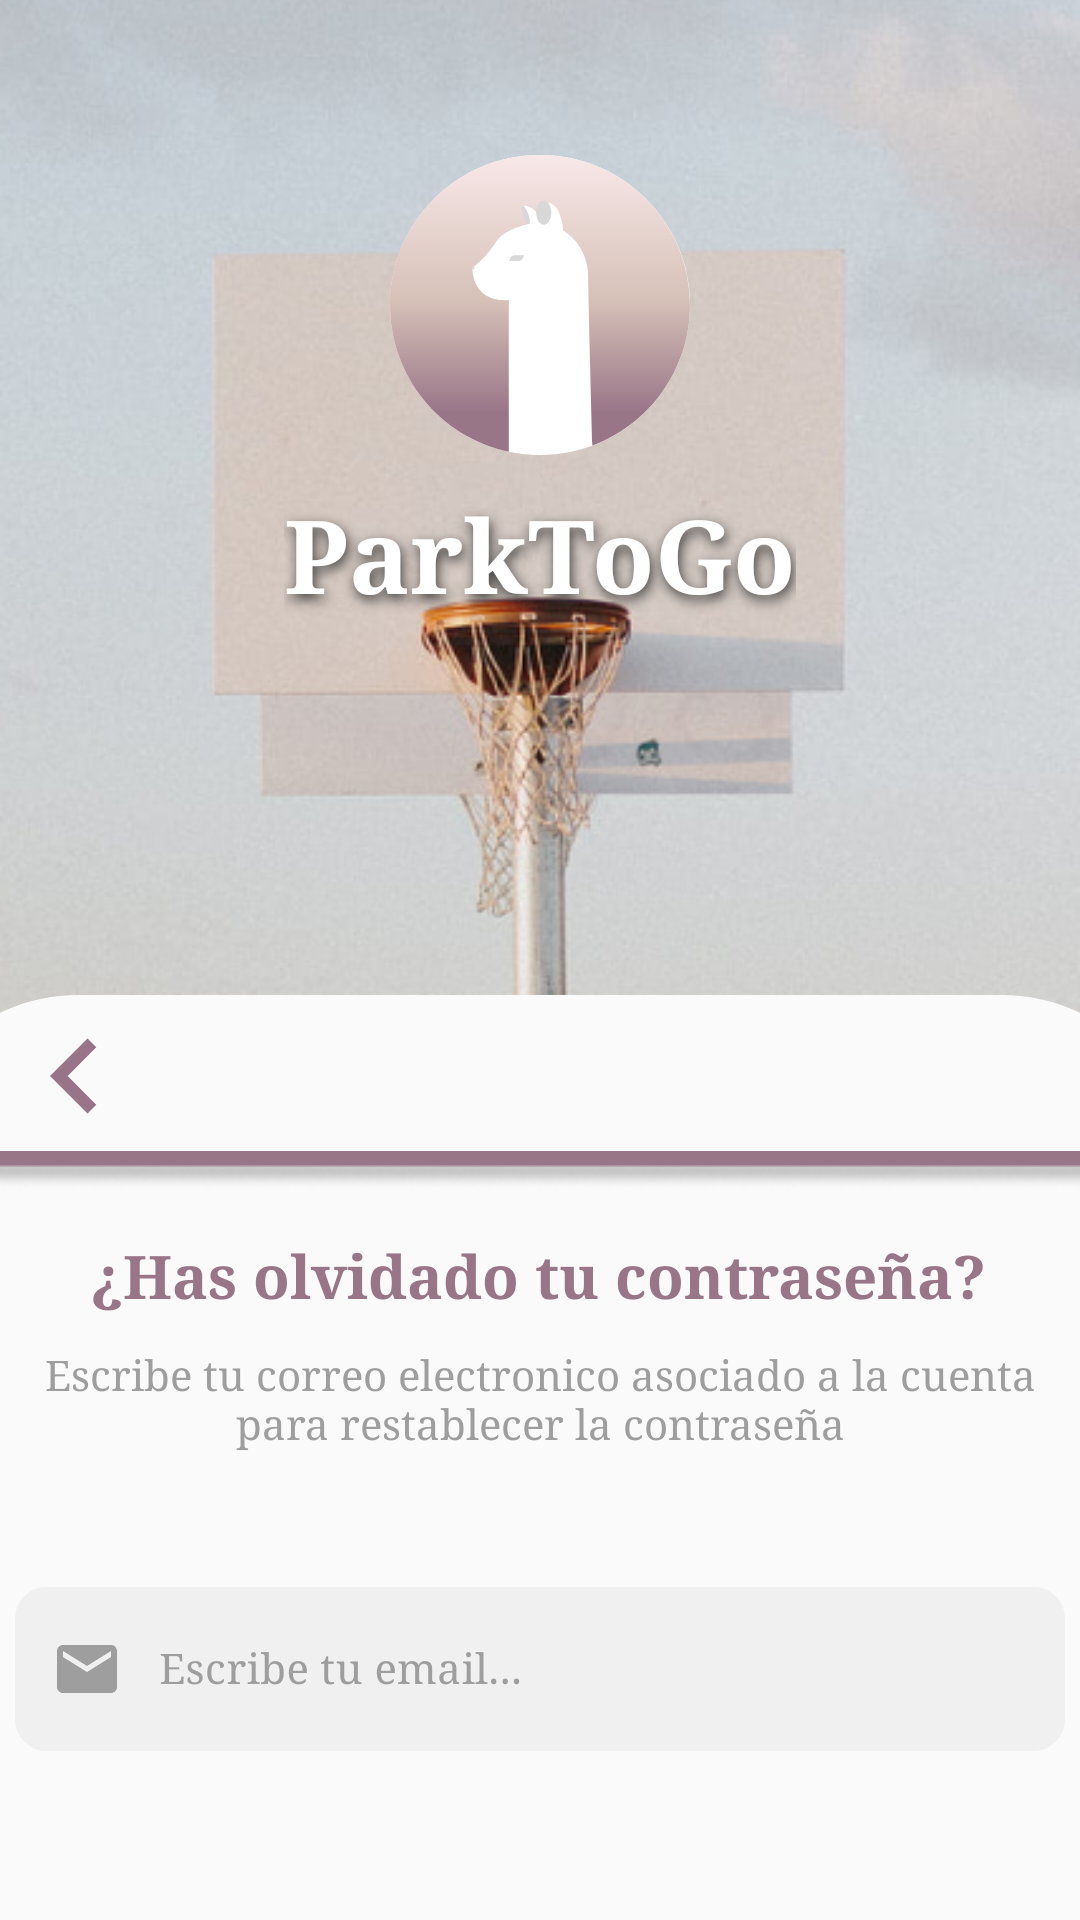

Where to tap for icons on this 1080 x 1920 app screen, as (x,y):
chevron left: (73,1076)
